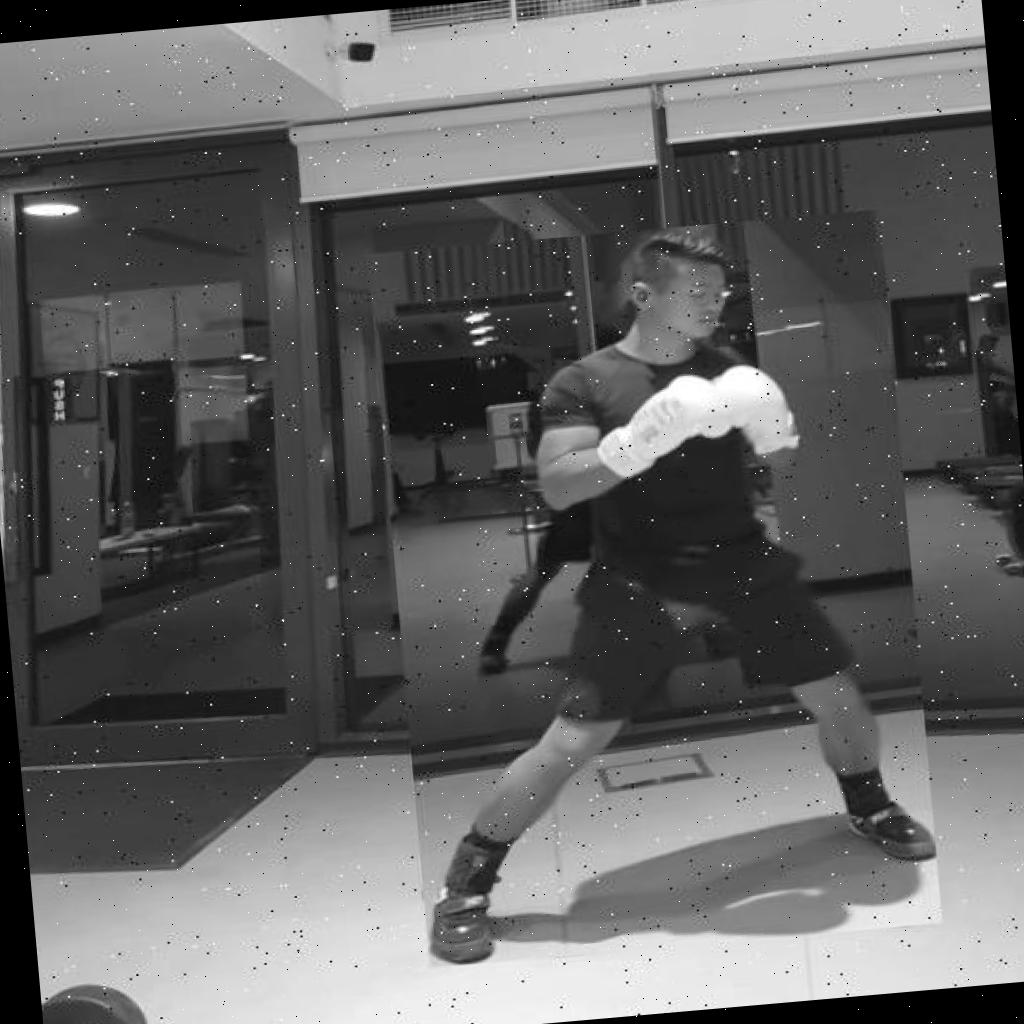no punch: (367, 209, 942, 968)
